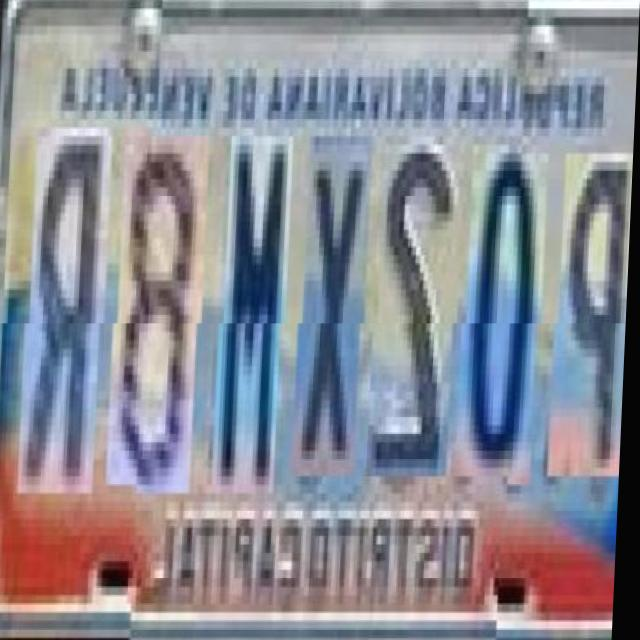2: (370, 136, 462, 476)
8: (110, 136, 206, 494)
m: (216, 136, 290, 494)
o: (459, 145, 546, 477)
p: (552, 144, 635, 468)
r: (22, 135, 110, 502)
x: (296, 136, 370, 476)
